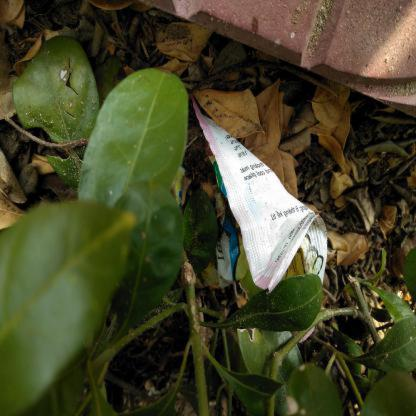Plastic bag - wrapper: (175, 96, 327, 294)
